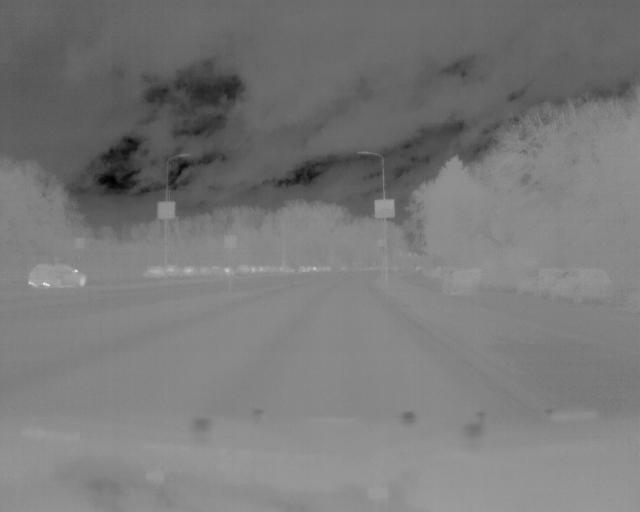car: (553, 268, 615, 303), (27, 259, 89, 290)
